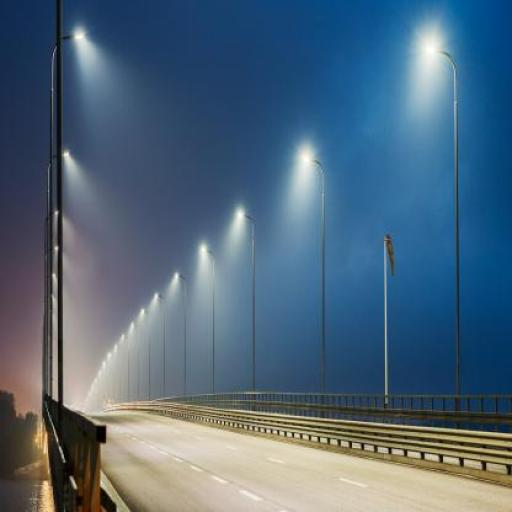street light: (49, 30, 87, 403), (424, 40, 460, 408), (298, 148, 325, 408), (52, 148, 71, 399), (232, 208, 256, 396), (198, 244, 216, 398), (46, 209, 59, 398), (174, 270, 188, 394), (154, 289, 165, 396), (140, 308, 152, 401), (129, 320, 139, 402), (122, 334, 130, 400)
